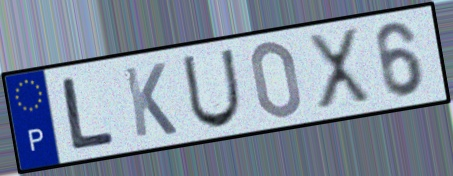0: (247, 38, 304, 122)
6: (373, 19, 428, 100)
K: (120, 60, 180, 140)
L: (58, 74, 118, 152)
U: (179, 46, 244, 131)
X: (304, 25, 375, 112)
